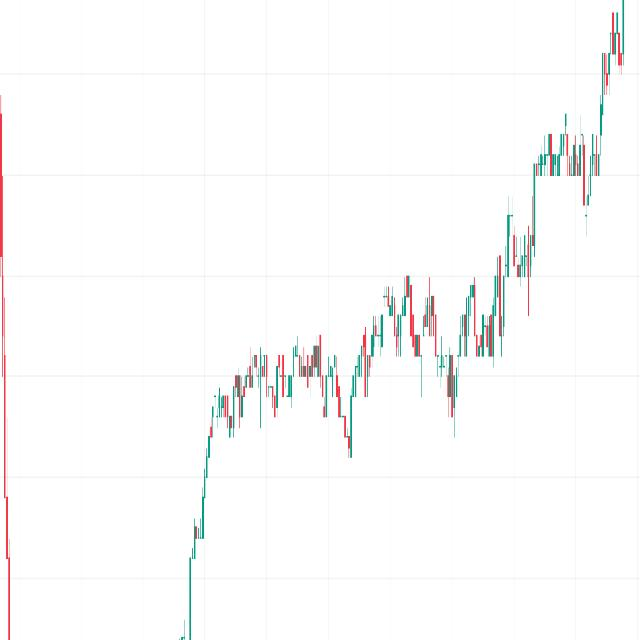Triple-Top: (373, 265, 441, 366), (532, 115, 588, 183)
